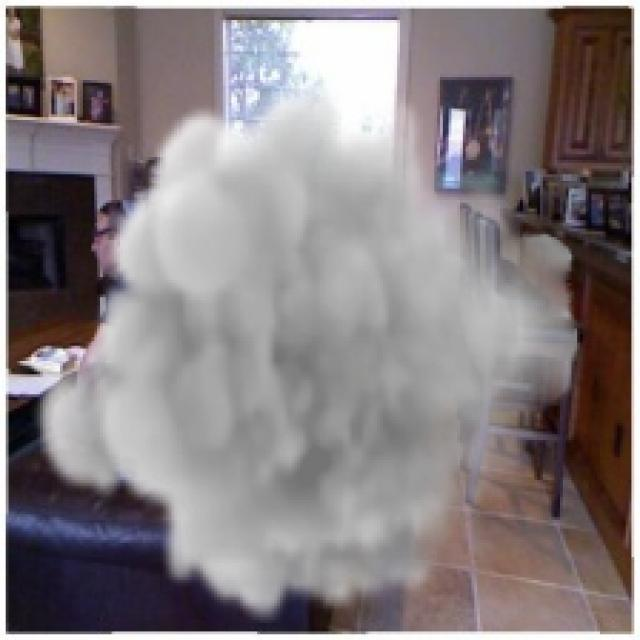Smoke: (28, 77, 583, 623)
